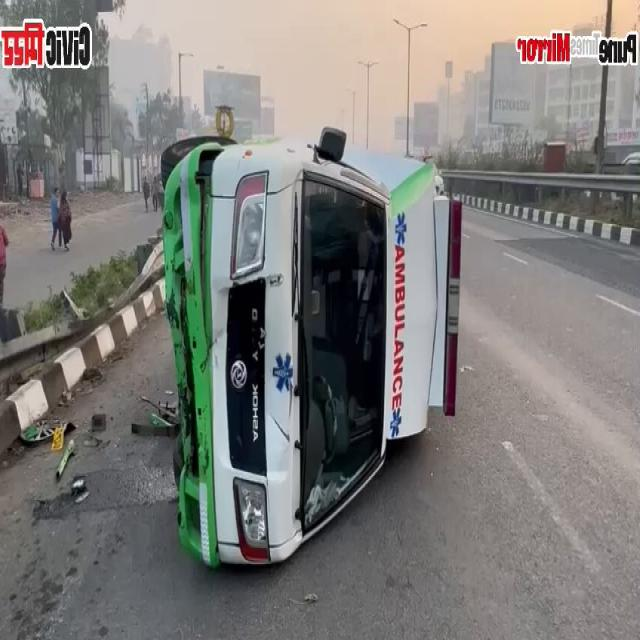accident: (162, 130, 461, 566)
